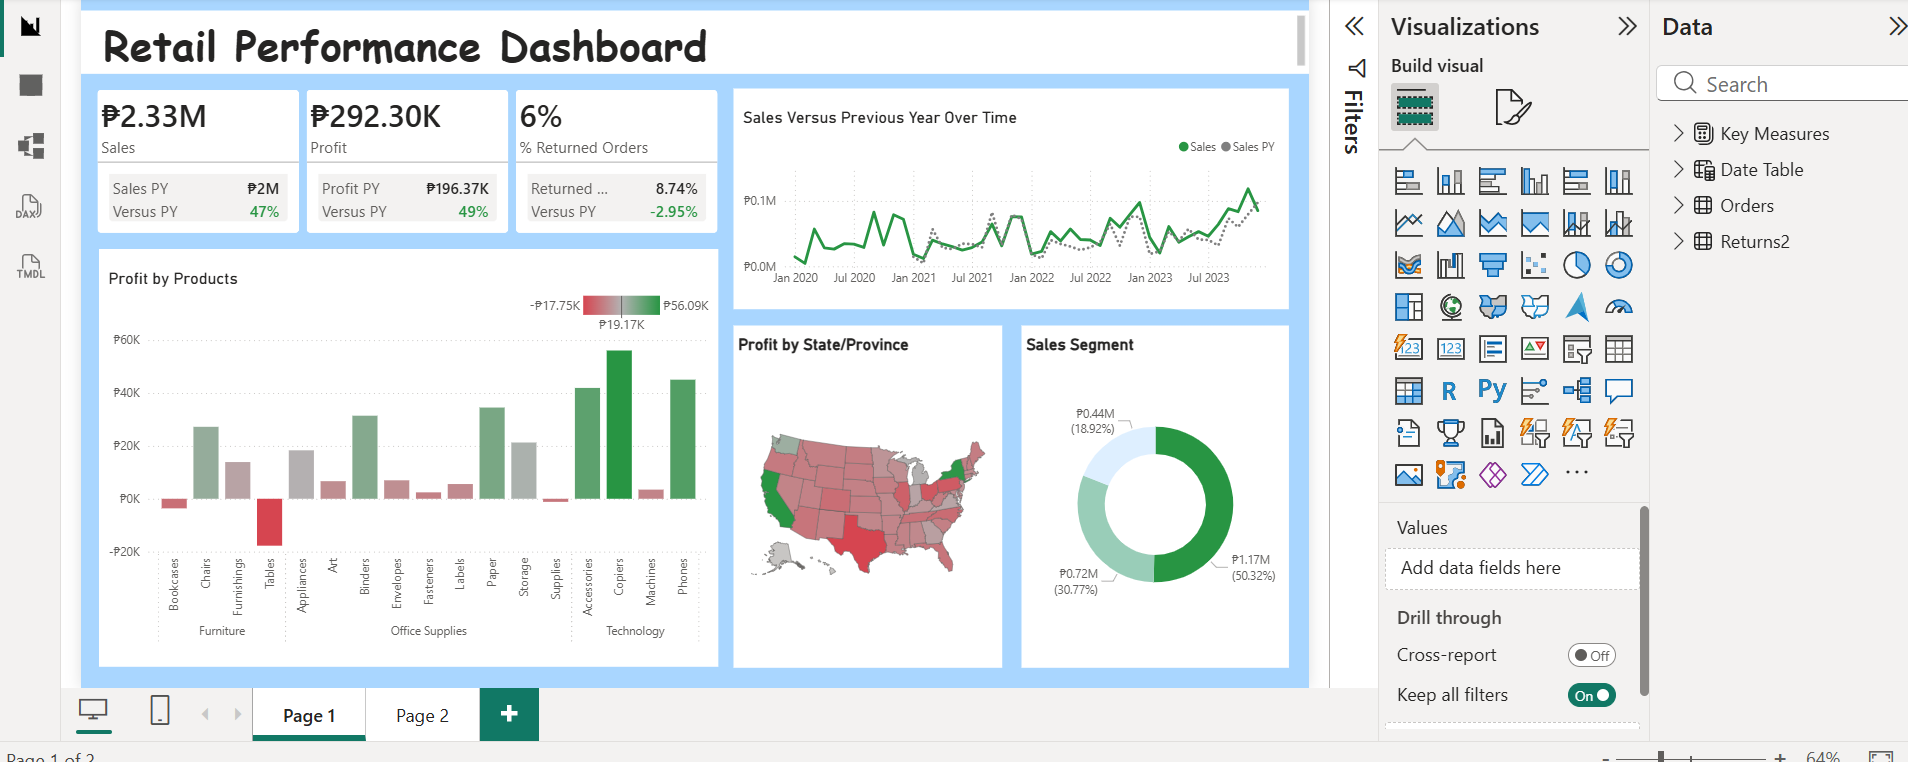

The page's visual inventory and layout, read from the dashboard file:
{"tool":"powerbi","page":{"name":"Page 1","canvas":[1280,720],"ordinal":0},"visuals":[{"type":"textbox","box":[0,14,1280,66],"z":0},{"type":"cardVisual","fields":{"Data":["Key Measures.sales","Key Measures.profit","Key Measures.% returned orders","select"]},"box":[0,80,680,183.3],"z":1000},{"type":"lineChart","title":"Sales Versus Previous Year Over Time","fields":{"Y":["Key Measures.sales","Key Measures.sales PY"],"Category":["Date Table.Start of Month"]},"box":[680,95,578.3,230],"z":2000},{"type":"columnChart","title":"Profit by Products","fields":{"Category":["Orders.Category","Orders.Sub-Category"],"Y":["Key Measures.profit"]},"box":[18.3,263.3,645,435],"z":3000},{"type":"shapeMap","title":"Profit by State/Province","fields":{"Category":["Orders.State/Province"],"Value":["Key Measures.profit"]},"box":[680,341.7,280,356.7],"z":4000},{"type":"donutChart","title":"Sales Segment","fields":{"Category":["Orders.Segment"],"Y":["Key Measures.sales"]},"box":[980,341.7,278.3,356.7],"z":5000}]}

Visuals, with their boxes on the page's 1280x720 design canvas (x1, y1, x2, y2). These are canvas units, not pixel positions in the 1908x762 screenshot, which may show the page scaled, cropped or inside an application window:
textbox: [0,14,1280,80]
cardVisual - Key Measures.sales x Key Measures.profit: [0,80,680,263]
"Sales Versus Previous Year Over Time" lineChart: [680,95,1258,325]
"Profit by Products" columnChart: [18,263,663,698]
"Profit by State/Province" shapeMap: [680,342,960,698]
"Sales Segment" donutChart: [980,342,1258,698]
